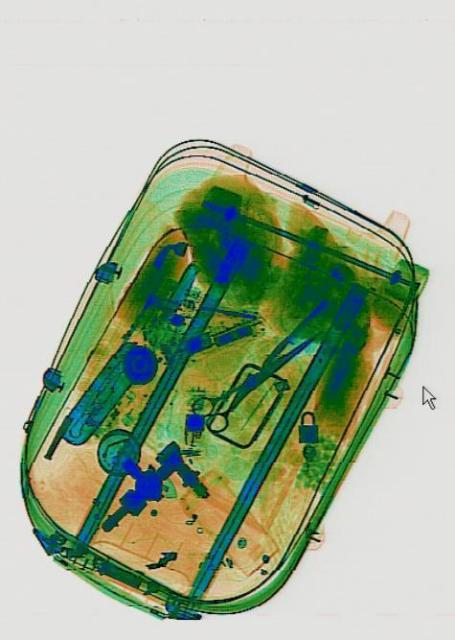Scissors: (187, 311, 330, 443)
